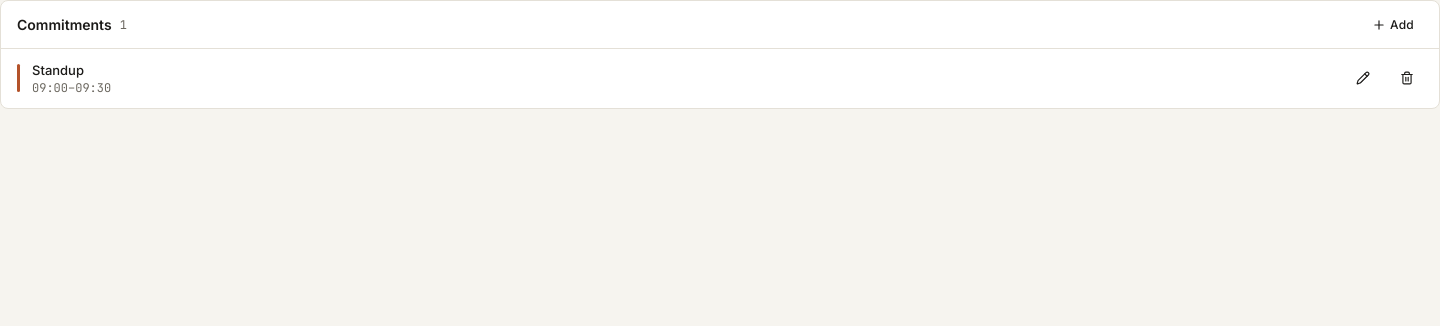
Test case: CommitmentsPanel › edits a commitment in place, keeping its own date, and closes on success
The image size is (1440, 326).
Click the button named "Edit Standup". click: (1363, 78)
box: [1347,62,1379,94]
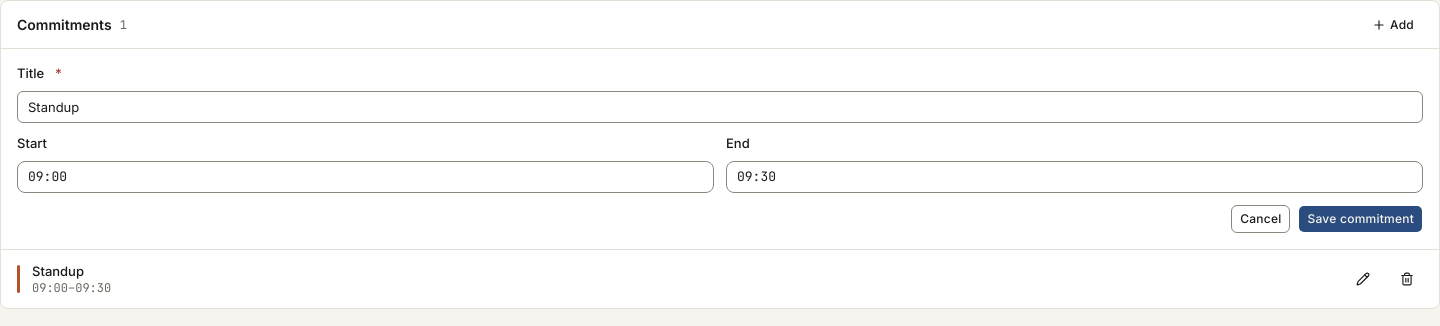
Expected: the field labelled "Title *" holds "Standup"
Expected: the field labelled "Start" holds "09:00", [17,161,714,193]
Replace the text in the field labelled "Title *" with "Moved standup". click: (720, 107)
box: [17,91,1423,123]
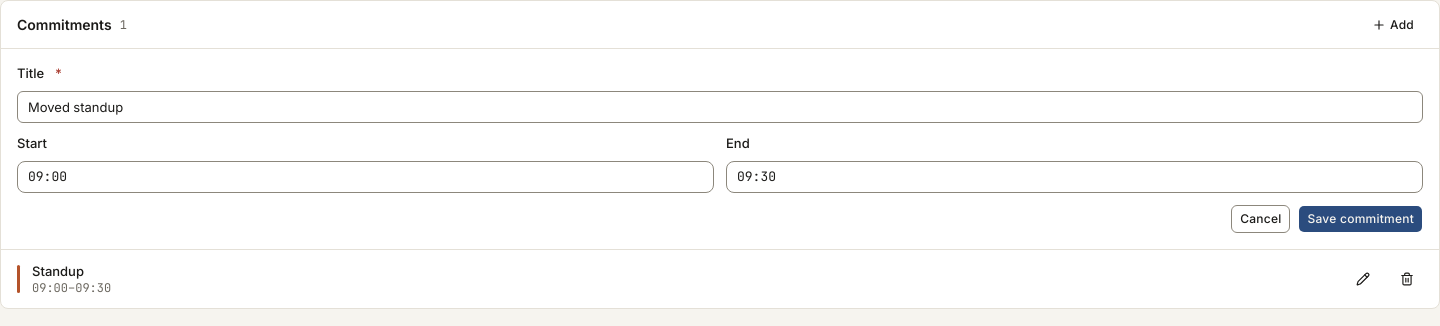
Replace the text in the field labelled "End" with "09:45". click: (1074, 177)
box: [726,161,1423,193]
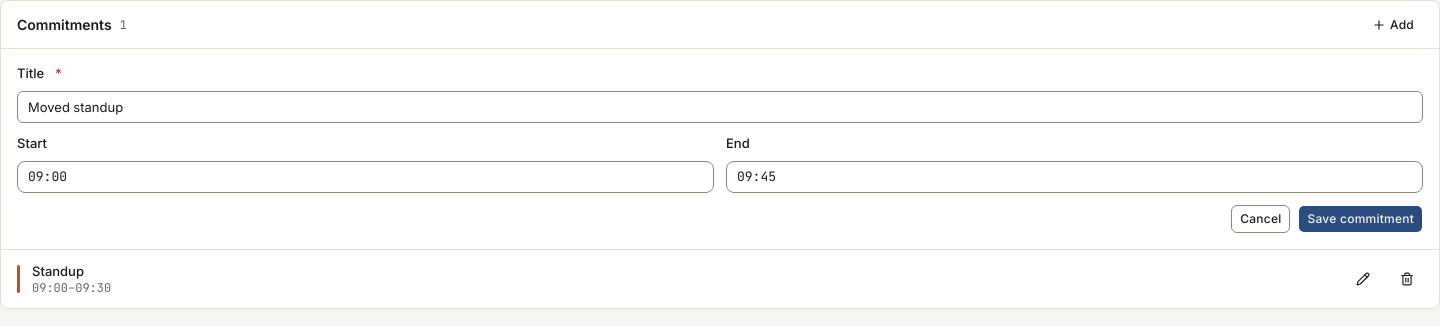
Click the button "Save commitment". click: (1361, 219)
box: [1298,205,1423,233]
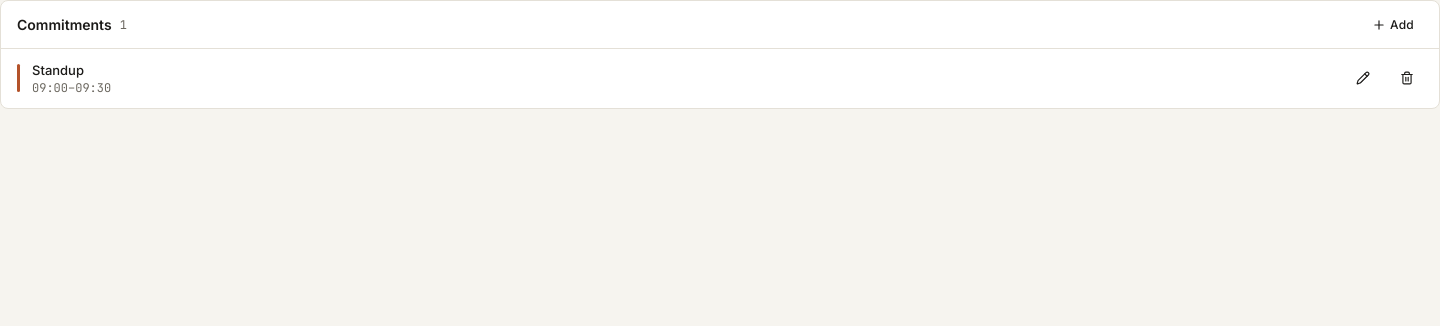
Expected: the label labelled "Title" is gone
